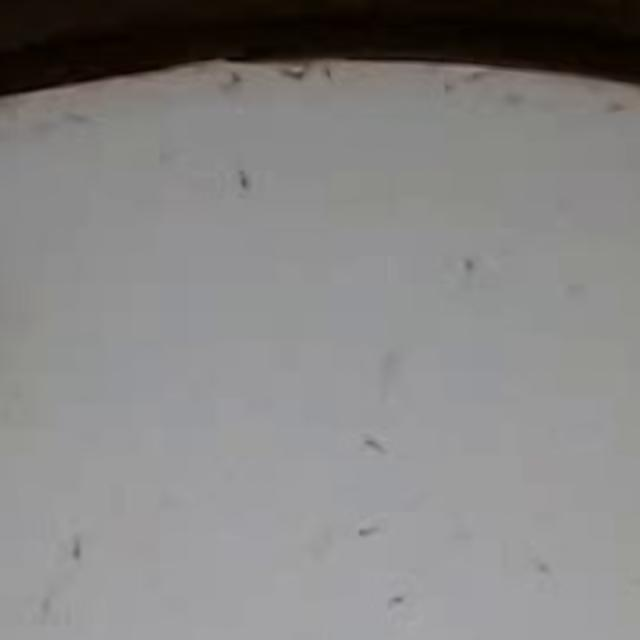shrimp-seed: (228, 152, 270, 212), (357, 426, 407, 464), (460, 242, 490, 300), (375, 578, 412, 625), (520, 542, 561, 578), (346, 510, 396, 538), (62, 532, 92, 573)
